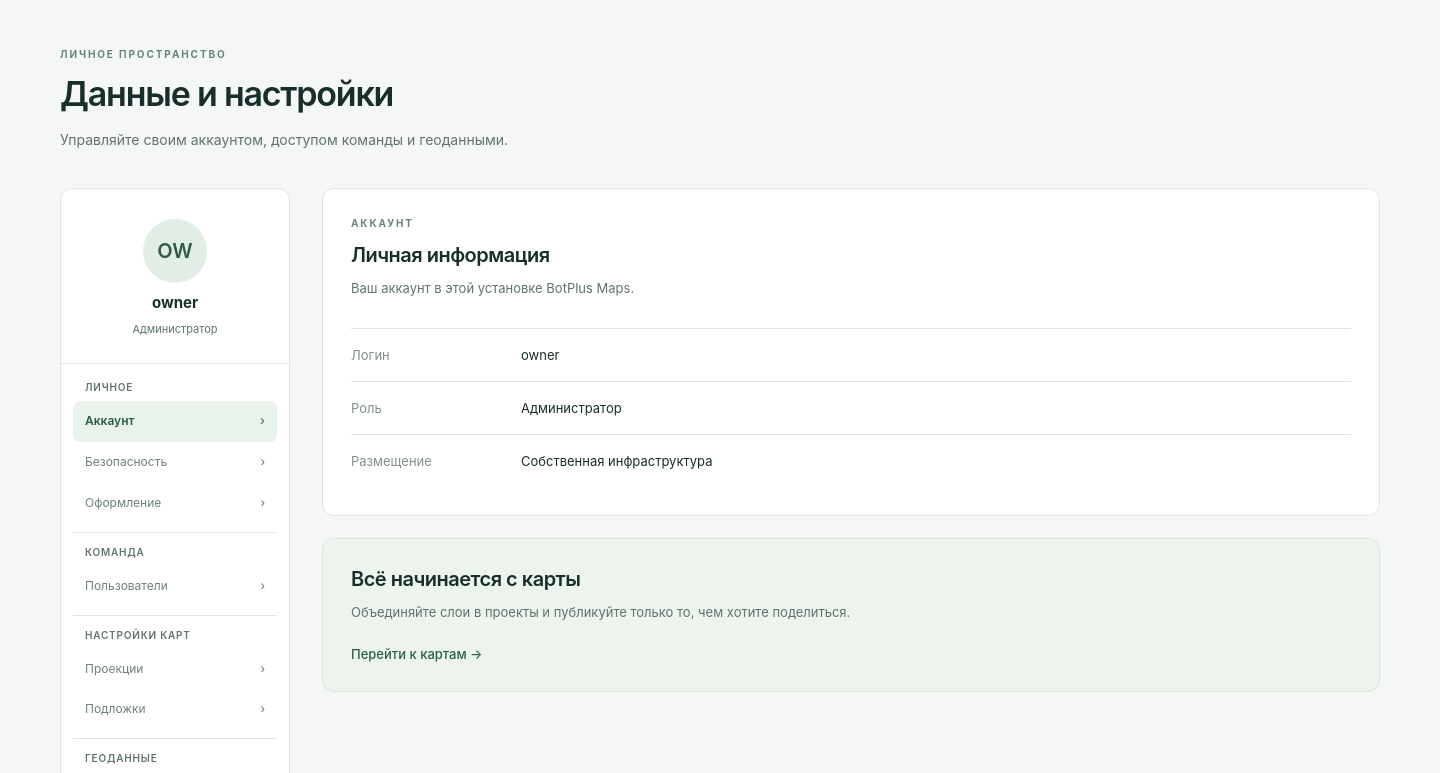
Test: administrator assigns a role through the protected API
Click the button "Пользователи ›".
click(175, 586)  # box [73, 566, 277, 607]
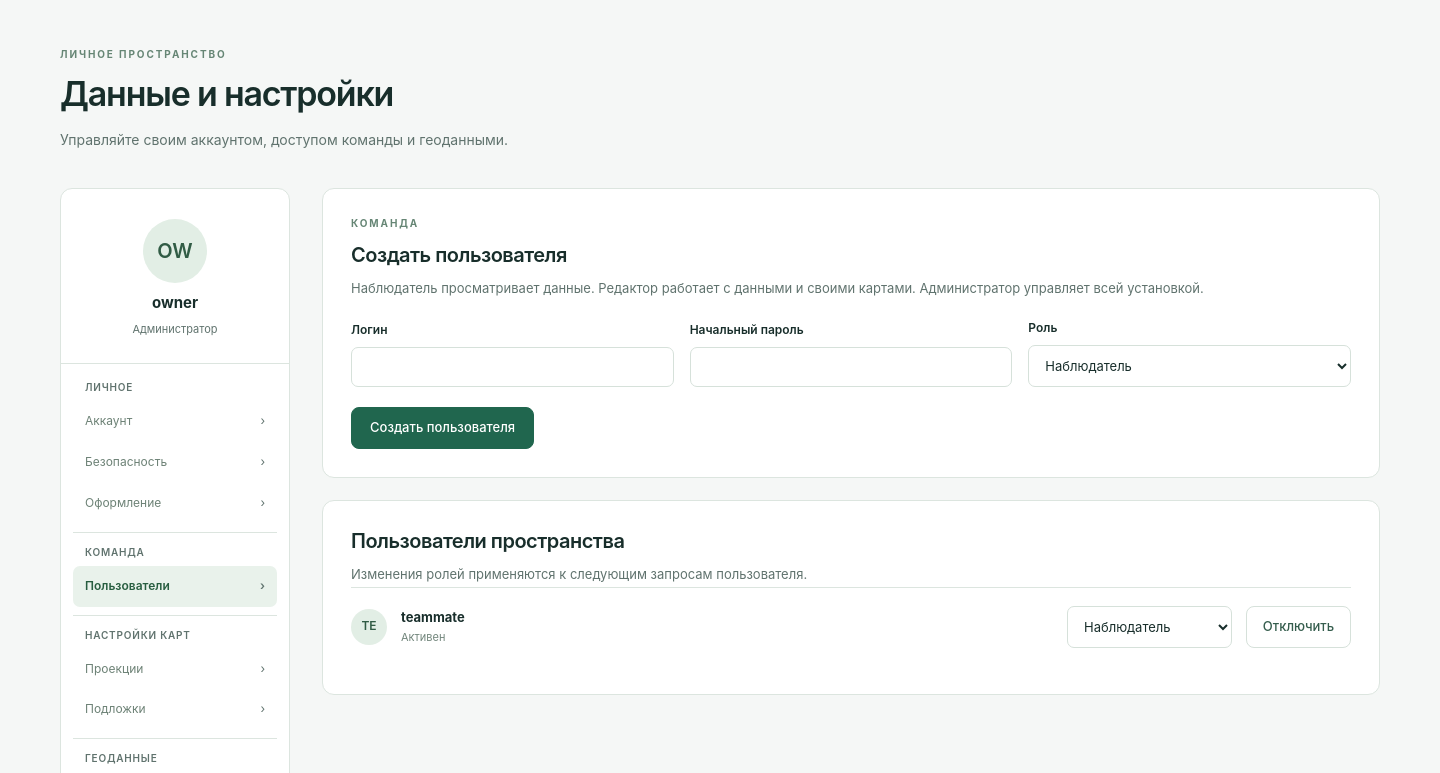
Select "Редактор" in the dropdown named "Роль teammate" at (1150, 627), box [1067, 606, 1232, 648]
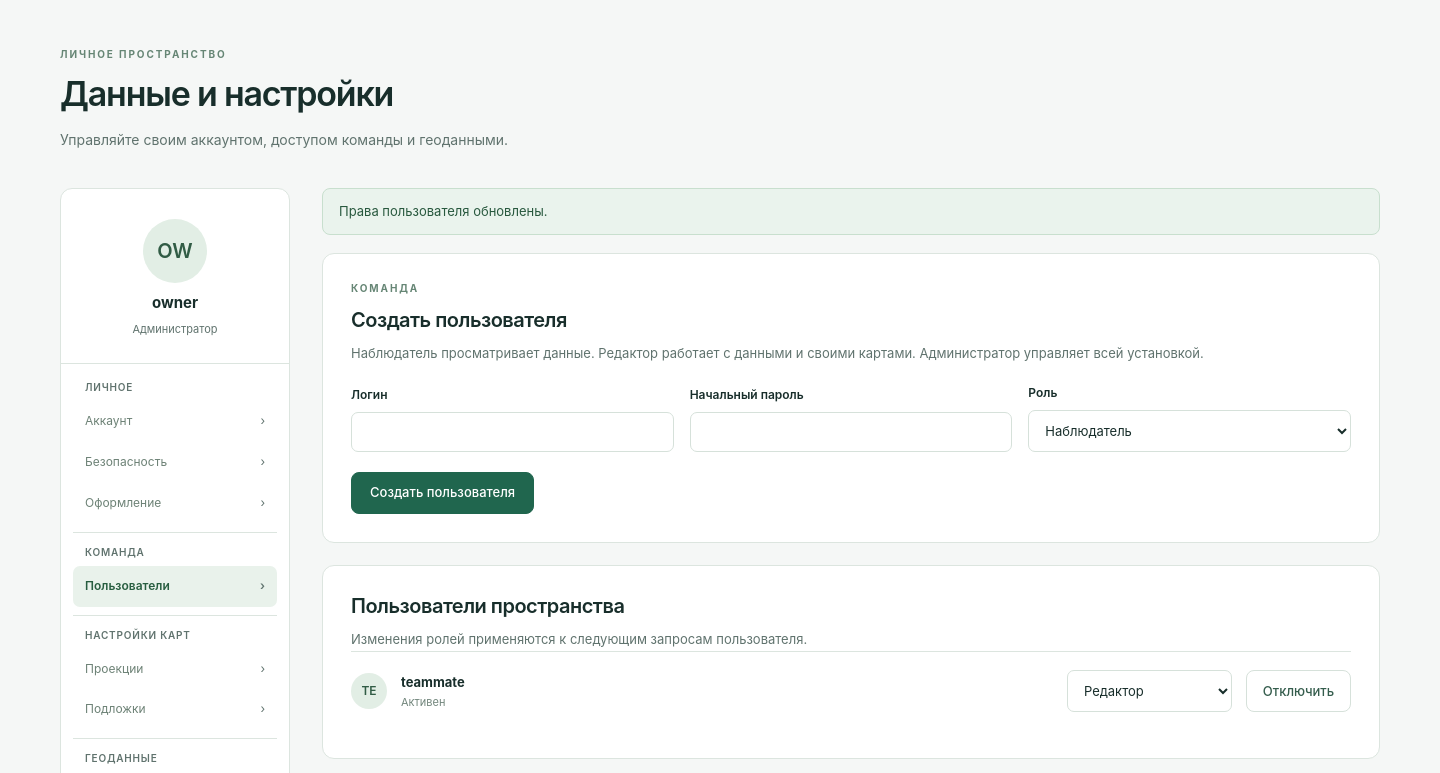
Result: the text "Права пользователя обновлены." is shown at [322, 188, 1380, 235]
